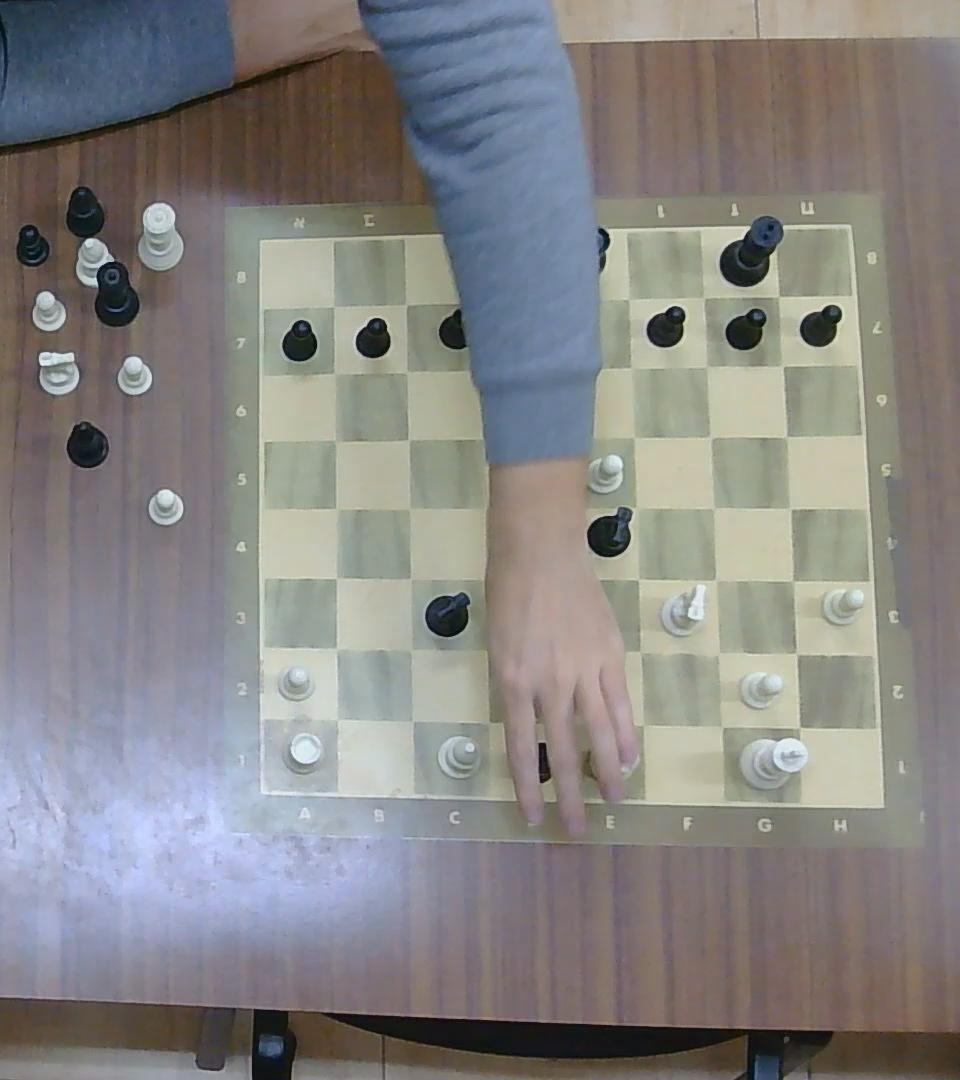xcorner: (781, 710, 815, 743), (702, 636, 734, 669), (626, 707, 658, 740), (473, 491, 505, 524), (705, 708, 736, 742), (538, 283, 569, 317), (780, 637, 812, 669), (320, 701, 351, 733), (550, 707, 581, 739), (699, 563, 730, 594), (626, 635, 656, 667), (471, 562, 501, 594), (776, 565, 807, 595), (698, 492, 728, 523), (776, 492, 806, 523), (320, 632, 350, 663), (397, 704, 426, 736), (554, 635, 583, 667), (395, 634, 425, 664), (471, 634, 501, 664), (472, 706, 501, 737), (623, 563, 652, 594), (552, 492, 580, 523), (551, 563, 579, 594), (321, 562, 350, 591), (395, 564, 424, 593), (622, 493, 651, 522), (322, 493, 350, 522), (616, 352, 645, 380), (470, 427, 500, 454), (614, 284, 642, 312), (396, 493, 423, 522), (321, 425, 349, 452), (620, 423, 648, 450), (464, 357, 492, 384), (696, 421, 723, 448), (768, 350, 795, 377), (772, 422, 800, 448), (551, 422, 576, 451), (544, 354, 570, 381), (393, 358, 421, 383), (321, 360, 349, 385), (396, 425, 422, 451), (394, 291, 420, 316), (693, 353, 719, 378), (454, 291, 479, 316), (690, 285, 715, 308), (767, 285, 791, 308), (323, 294, 345, 316)
